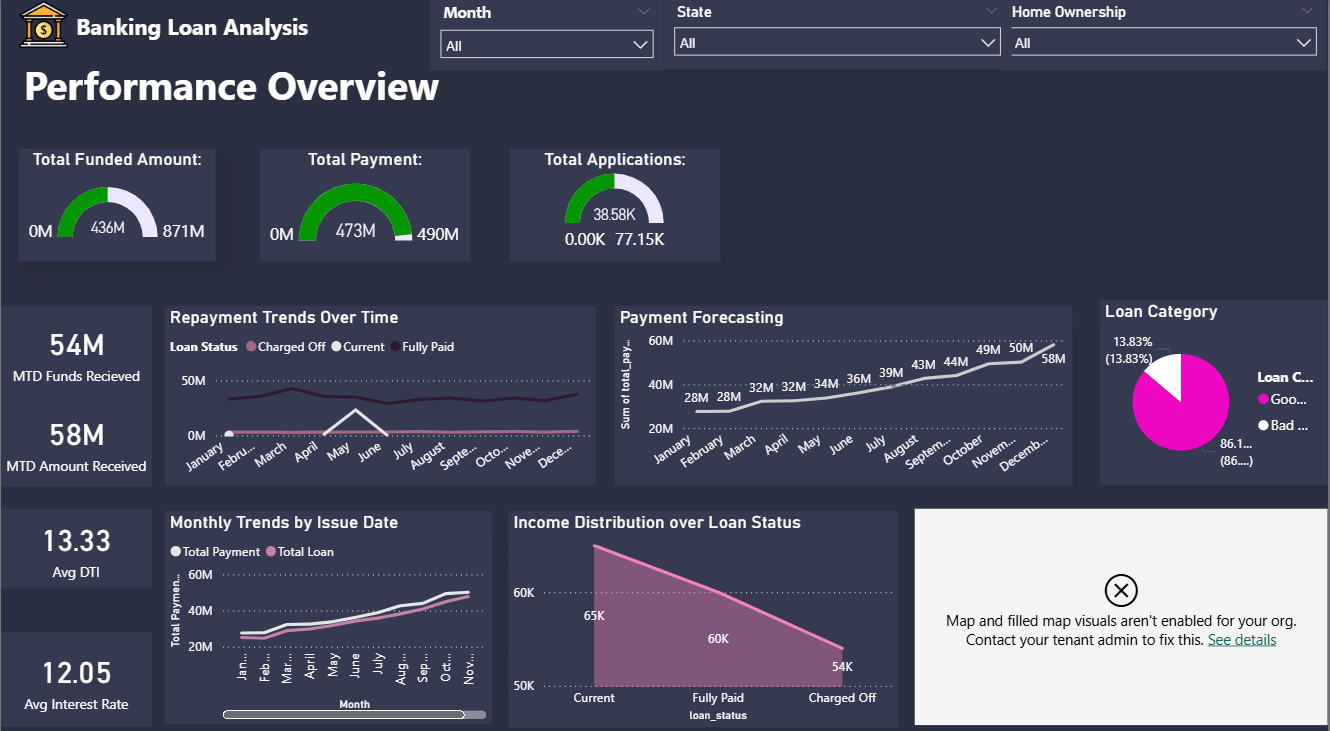

Layout of this report page (visuals, bound fields, positions):
{"tool":"powerbi","page":{"name":"Main Dashboard","canvas":[1280,720],"ordinal":0},"visuals":[{"type":"gauge","fields":{"Y":["Sum(financial_loan_data.total_payment)"]},"box":[797.1,28.6,202.9,108.6],"z":0},{"type":"gauge","fields":{"Y":["CountNonNull(financial_loan_data.id)"]},"box":[1047.1,28.6,202.9,108.6],"z":1000},{"type":"card","fields":{"Values":["Avg(financial_loan_data.int_rate - percentage)"]},"box":[0,504.3,145.7,91.4],"z":2000},{"type":"gauge","fields":{"Y":["Sum(financial_loan_data.loan_amount)"]},"box":[545.7,28.6,190,108.6],"z":3000},{"type":"card","fields":{"Values":["Avg(financial_loan_data.dti - percentage)"]},"box":[0,428.6,145.7,75.7],"z":4000},{"type":"card","fields":{"Values":["financial_loan_data.loan_amount MTD"]},"box":[0,187.1,145.7,87.1],"z":5000},{"type":"card","fields":{"Values":["financial_loan_data.total_payment MTD"]},"box":[0,274.3,145.7,87.1],"z":6000},{"type":"pieChart","title":"Loan Category","fields":{"Y":["financial_loan_data.LoanApplicationPercentage"],"Category":["financial_loan_data.Loan Category"]},"box":[1047.1,187.1,220,178.6],"z":7000},{"type":"textbox","box":[67.1,11.4,280,51.4],"z":8000},{"type":"textbox","box":[17.1,57.1,435.7,61.4],"z":9000},{"type":"image","box":[0,0,82.9,57.1],"z":10000},{"type":"slicer","fields":{"Values":["financial_loan_data.issue_date.Variation.Date Hierarchy.Month"]},"box":[248.2,611.7,226.5,69.3],"z":11000},{"type":"lineChart","title":"Monthly Trends by Issue Date","fields":{"Category":["financial_loan_data.issue_date.Variation.Date Hierarchy.Month"],"Y":["Sum(financial_loan_data.total_payment)","Sum(financial_loan_data.loan_amount)"]},"box":[158.6,387.1,315.7,208.6],"z":12000},{"type":"lineChart","title":"Repayment Trends Over Time","fields":{"Y":["Sum(financial_loan_data.total_payment)"],"Category":["financial_loan_data.last_payment_date.Variation.Date Hierarchy.Month"],"Series":["financial_loan_data.loan_status"]},"box":[158.6,188.6,415.7,172.9],"z":13000},{"type":"stackedAreaChart","title":"Income Distribution over Loan Status","fields":{"Category":["financial_loan_data.loan_status"],"Y":["Median(financial_loan_data.annual_income)"]},"box":[492.9,387.1,375.7,208.6],"z":14000},{"type":"lineChart","title":"Payment Forecasting","fields":{"Category":["financial_loan_data.issue_date.Variation.Date Hierarchy.Month"],"Y":["Sum(financial_loan_data.total_payment)"]},"box":[590,187.1,441.4,172.9],"z":15000},{"type":"slicer","fields":{"Values":["financial_loan_data.HomeOwnershipCategory"]},"box":[842.6,611.7,317.4,69.3],"z":16000},{"type":"slicer","fields":{"Values":["financial_loan_data.address_state"]},"box":[493.4,613.2,334.7,67.8],"z":17000},{"type":"filledMap","fields":{"Category":["financial_loan_data.address_state"],"Series":["financial_loan_data.address_state"]},"box":[868.5,386.7,398.2,209.2],"z":18000}]}

Visuals, with their boxes in screenshot pixels (x1, y1, x2, y2), scaled from the page's 1280x720 canvas onto the 1330x731 screenshot:
gauge - Sum(financial_loan_data.total_payment): (left=828, top=29, right=1039, bottom=139)
gauge - CountNonNull(financial_loan_data.id): (left=1088, top=29, right=1299, bottom=139)
card - Avg(financial_loan_data.int_rate - percentage): (left=0, top=512, right=151, bottom=605)
gauge - Sum(financial_loan_data.loan_amount): (left=567, top=29, right=764, bottom=139)
card - Avg(financial_loan_data.dti - percentage): (left=0, top=435, right=151, bottom=512)
card - financial_loan_data.loan_amount MTD: (left=0, top=190, right=151, bottom=278)
card - financial_loan_data.total_payment MTD: (left=0, top=278, right=151, bottom=367)
"Loan Category" pieChart: (left=1088, top=190, right=1317, bottom=371)
textbox: (left=70, top=12, right=361, bottom=64)
textbox: (left=18, top=58, right=470, bottom=120)
image: (left=0, top=0, right=86, bottom=58)
slicer - financial_loan_data.issue_date.Variation.Date Hierarchy.Month: (left=258, top=621, right=493, bottom=691)
"Monthly Trends by Issue Date" lineChart: (left=165, top=393, right=493, bottom=605)
"Repayment Trends Over Time" lineChart: (left=165, top=191, right=597, bottom=367)
"Income Distribution over Loan Status" stackedAreaChart: (left=512, top=393, right=903, bottom=605)
"Payment Forecasting" lineChart: (left=613, top=190, right=1072, bottom=366)
slicer - financial_loan_data.HomeOwnershipCategory: (left=876, top=621, right=1205, bottom=691)
slicer - financial_loan_data.address_state: (left=513, top=623, right=860, bottom=691)
filledMap - financial_loan_data.address_state x financial_loan_data.address_state: (left=902, top=393, right=1316, bottom=605)
